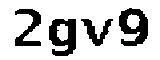2: (13, 8, 43, 48)
9: (116, 5, 151, 47)
g: (46, 15, 80, 60)
v: (82, 17, 114, 50)
